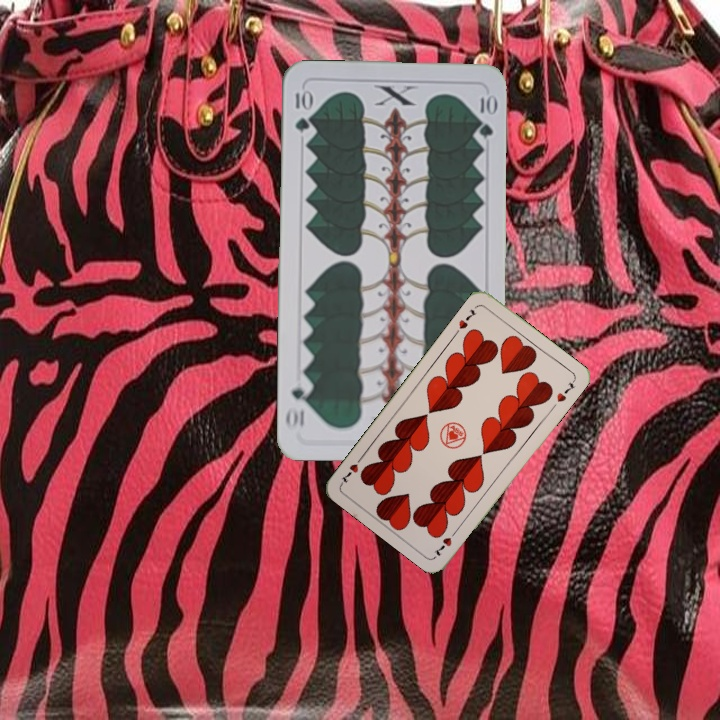G10: (291, 85, 312, 135)
H7: (430, 525, 460, 558), (455, 305, 479, 332)
